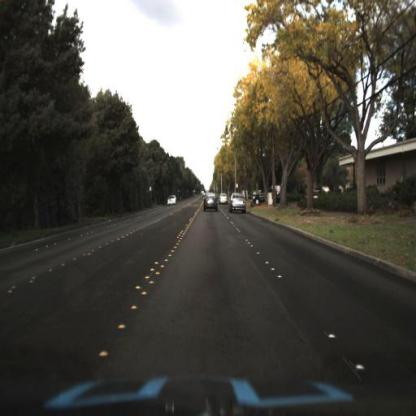car: (250, 183, 280, 207), (226, 189, 249, 217), (198, 188, 220, 213), (163, 191, 178, 211), (165, 194, 178, 210), (218, 191, 228, 206)
